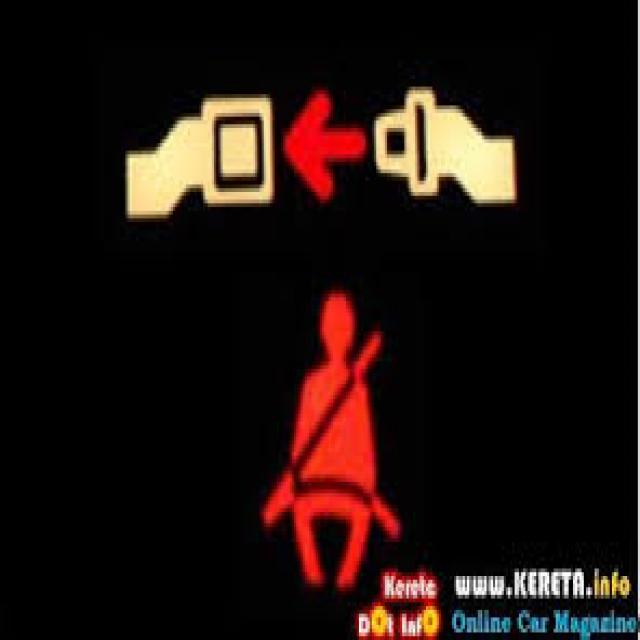SeatBeltWarning: (256, 277, 404, 598)
